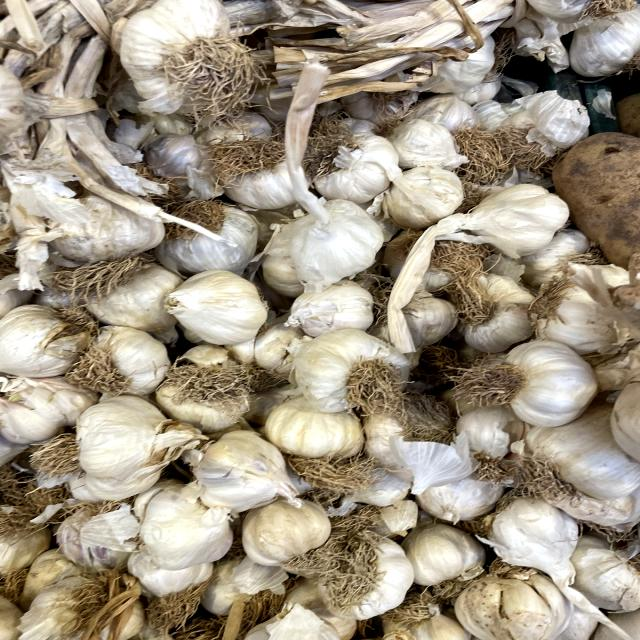garlic: (36, 383, 237, 488), (445, 323, 612, 432), (272, 171, 403, 286), (428, 177, 581, 270), (284, 323, 427, 422), (150, 261, 278, 350)
